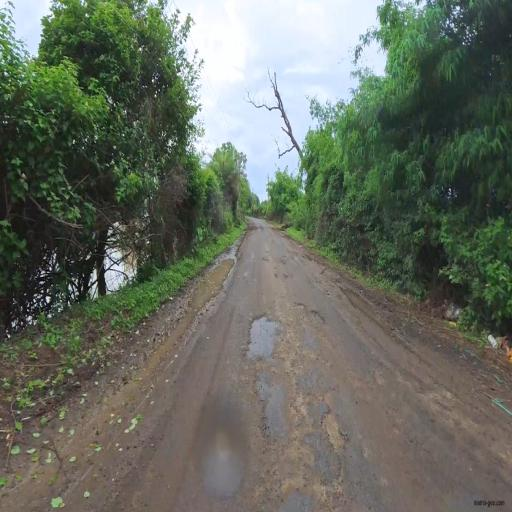ravelling: (213, 271, 383, 493)
